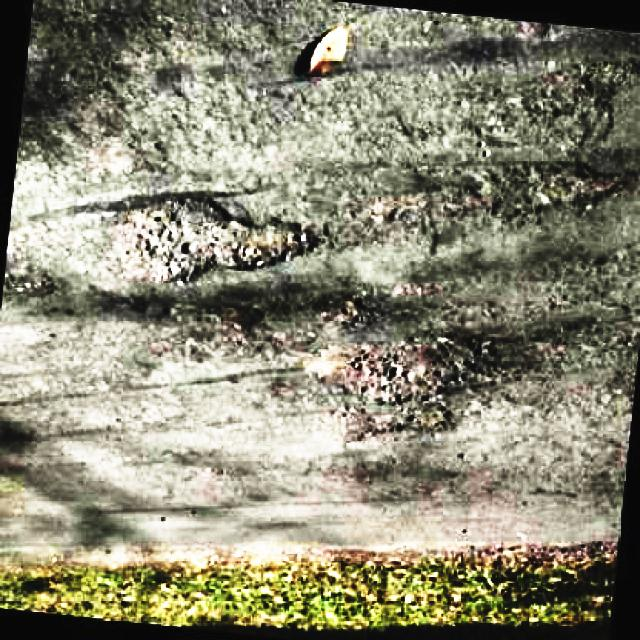pothole: (94, 186, 328, 288), (304, 319, 490, 443)
